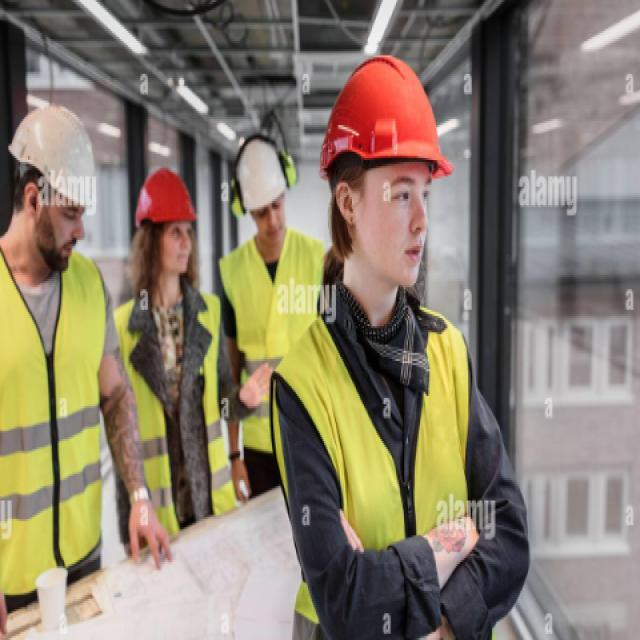helmet: (321, 52, 453, 292), (8, 98, 102, 274), (136, 158, 198, 292), (236, 138, 290, 254)
vest: (261, 295, 475, 639), (0, 228, 110, 597), (109, 285, 237, 529), (214, 224, 330, 470)
